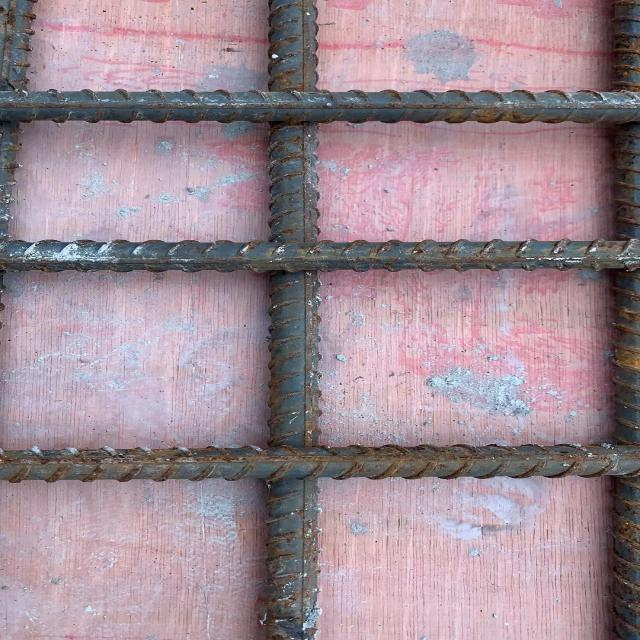ribbed bar: (257, 0, 322, 639), (0, 442, 639, 485), (599, 1, 638, 639), (0, 90, 639, 127), (0, 238, 639, 275)
